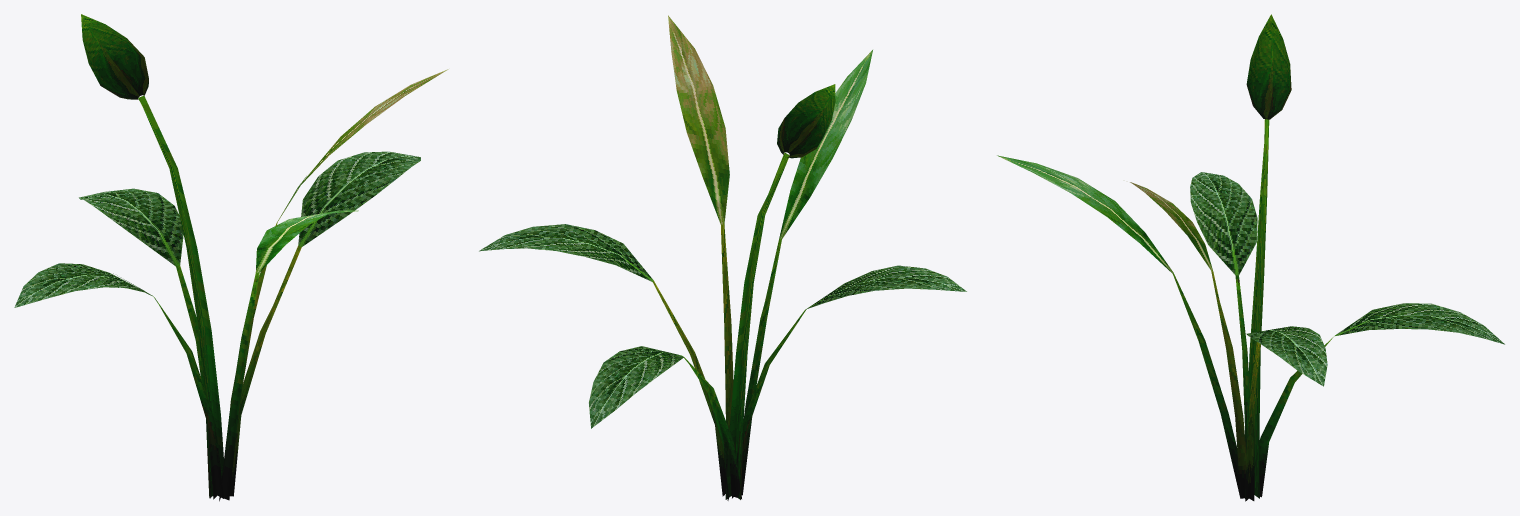
File: ps2_save-icons_seaman.glb
3 views of the same model, side by side, from view 1: azimuth 30°, elevation 25°; view 2: azimuth 150°, elevation 25°; view 3: azimuth 270°, elevation 25° (orthographic). The views are drawn at different scales.
Visible parts, largest first — view 1: list.ico; view 2: list.ico; view 3: list.ico.
Boxes of the visible parts, x1,y1,x2,y2 form: list.ico: [14, 14, 448, 501]; list.ico: [479, 15, 966, 500]; list.ico: [997, 14, 1504, 501].
Size of the model in its own units: 4.43 by 4.47 by 4.79.
1 material, 1 textured.
